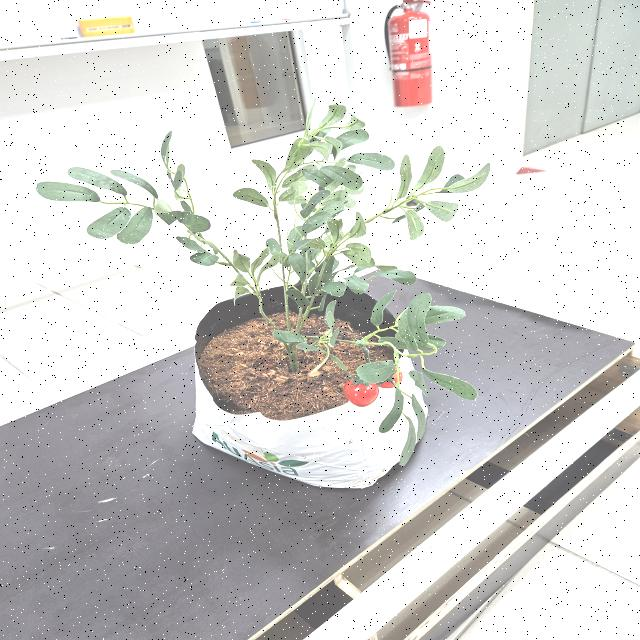Soilbag: (190, 282, 429, 488)
Tomato: (342, 364, 403, 407)
plant: (38, 100, 486, 468)
